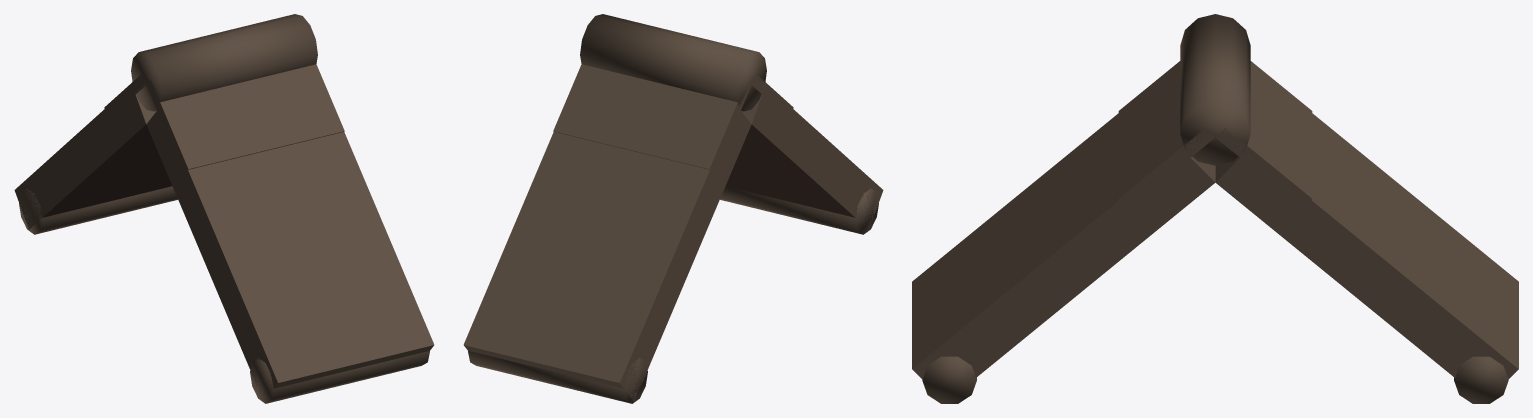
File: kit_timber_thatch_w2.glb
3 renders of one model, left to right at view 1: azimuth 30°, elevation 25°; view 2: azimuth 150°, elevation 25°; view 3: azimuth 270°, elevation 25°, orthographic. The views are drawn at different scales.
Visible parts, largest first — view 1: kit_timber_thatch_w2; view 2: kit_timber_thatch_w2; view 3: kit_timber_thatch_w2.
Boxes of the visible parts, left/top/right/bottom form: kit_timber_thatch_w2: left=14, top=14, right=434, bottom=403; kit_timber_thatch_w2: left=463, top=14, right=883, bottom=403; kit_timber_thatch_w2: left=912, top=14, right=1518, bottom=403.
Size of the model in its own units: 1 by 1.61 by 2.92.
